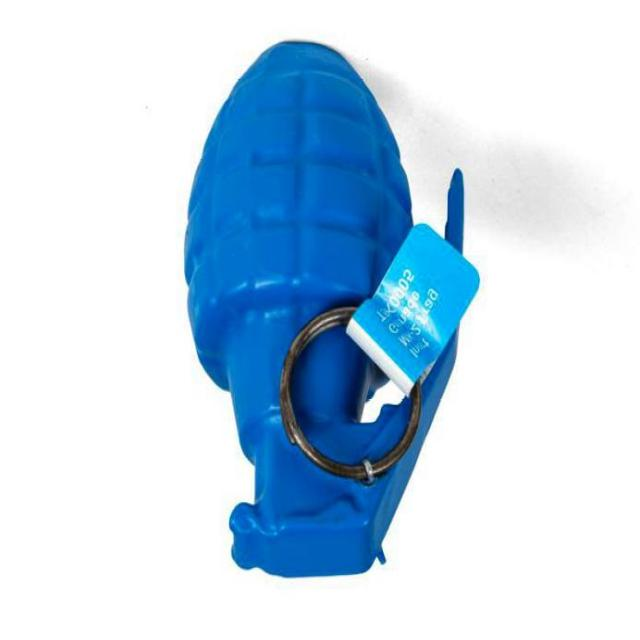grenade: (184, 42, 465, 581)
